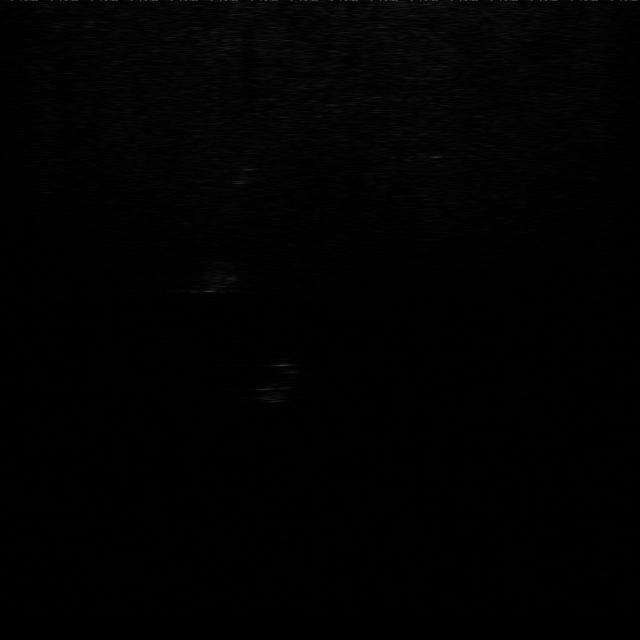ball: (220, 150, 266, 184)
circle cage: (188, 257, 242, 297)
tyre: (248, 353, 310, 405)
